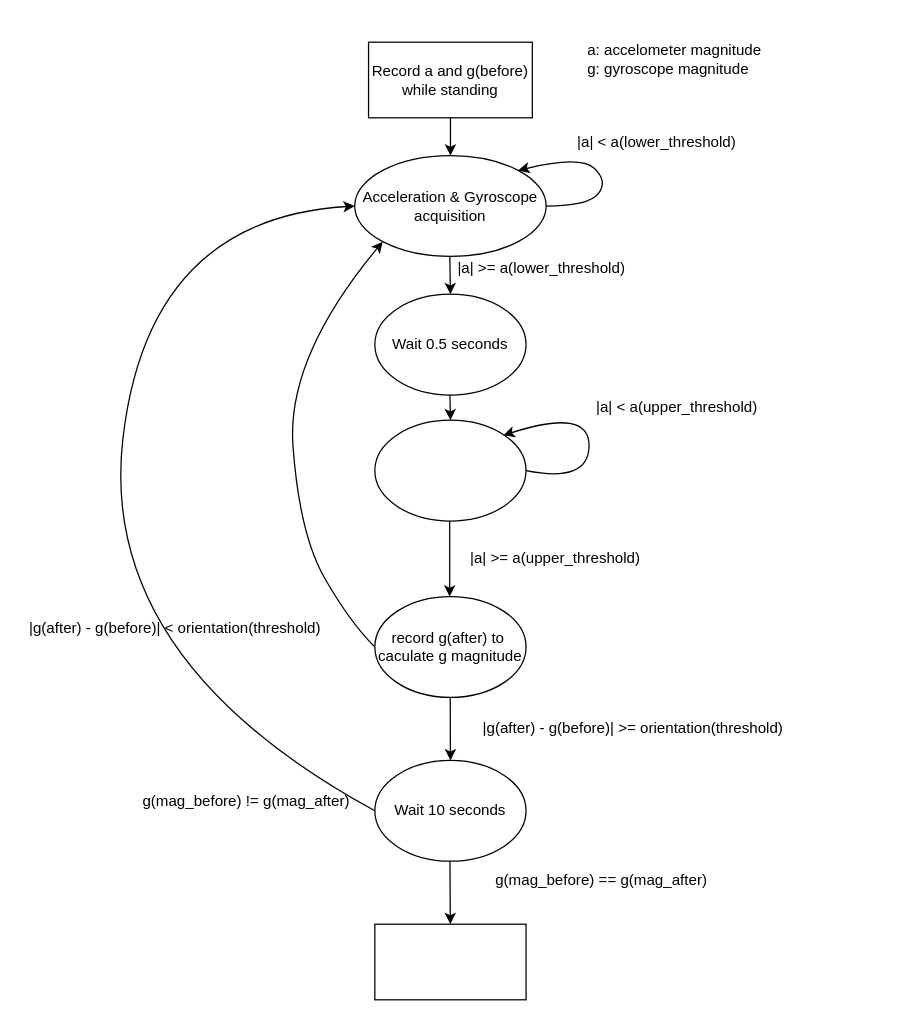
Some shapes in this 912 by 1022 pixel diagram are drawn without their labels. The box of each missing label's shape, as (x1, y1, x2, y2) in pixels:
Impact state: (374, 419, 526, 521)
Regard as falling: (374, 923, 526, 1000)
